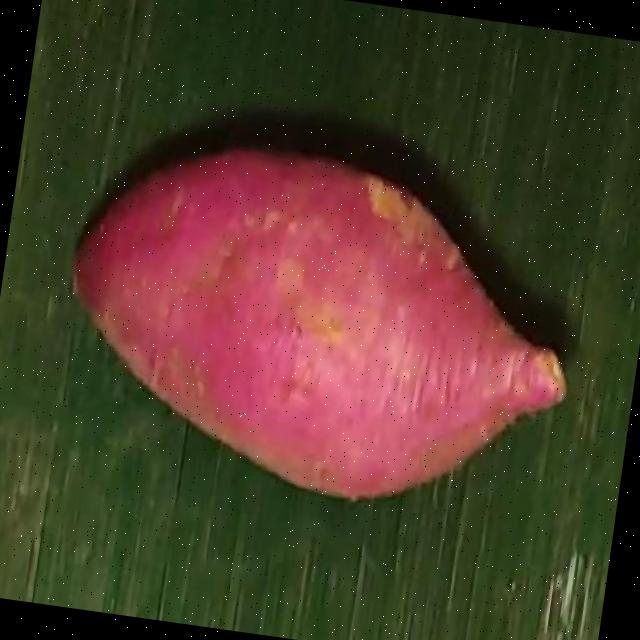Sweet Potato: (72, 149, 566, 503)
